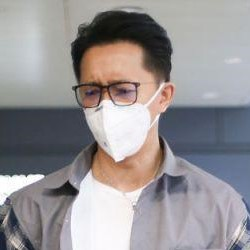mask: (76, 95, 164, 162)
